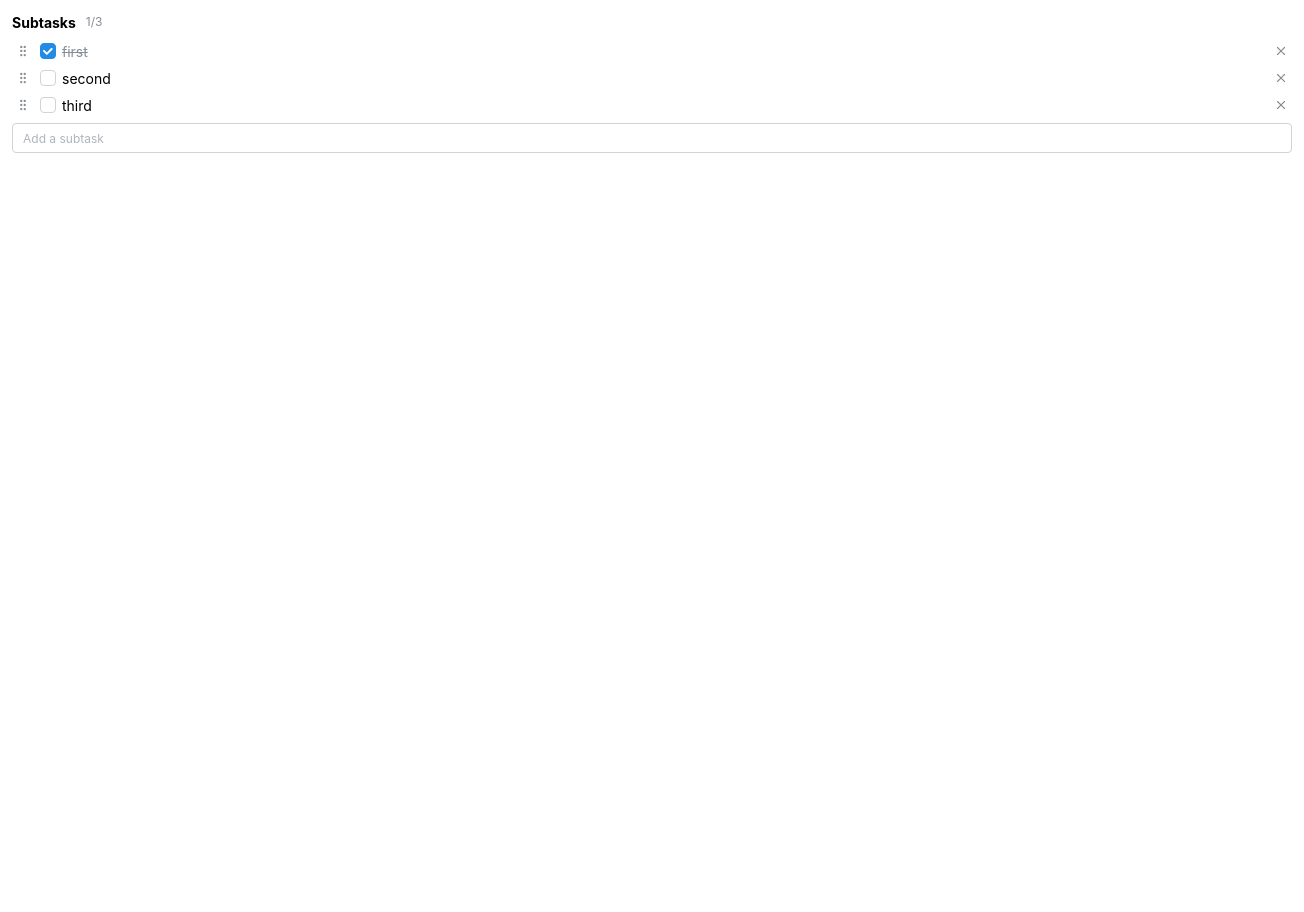
it: SubtasksSection undo › unchecking says so
Step 1. Click the checkbox named "Subtask done: first" → (48, 51), box [40,43,56,59]
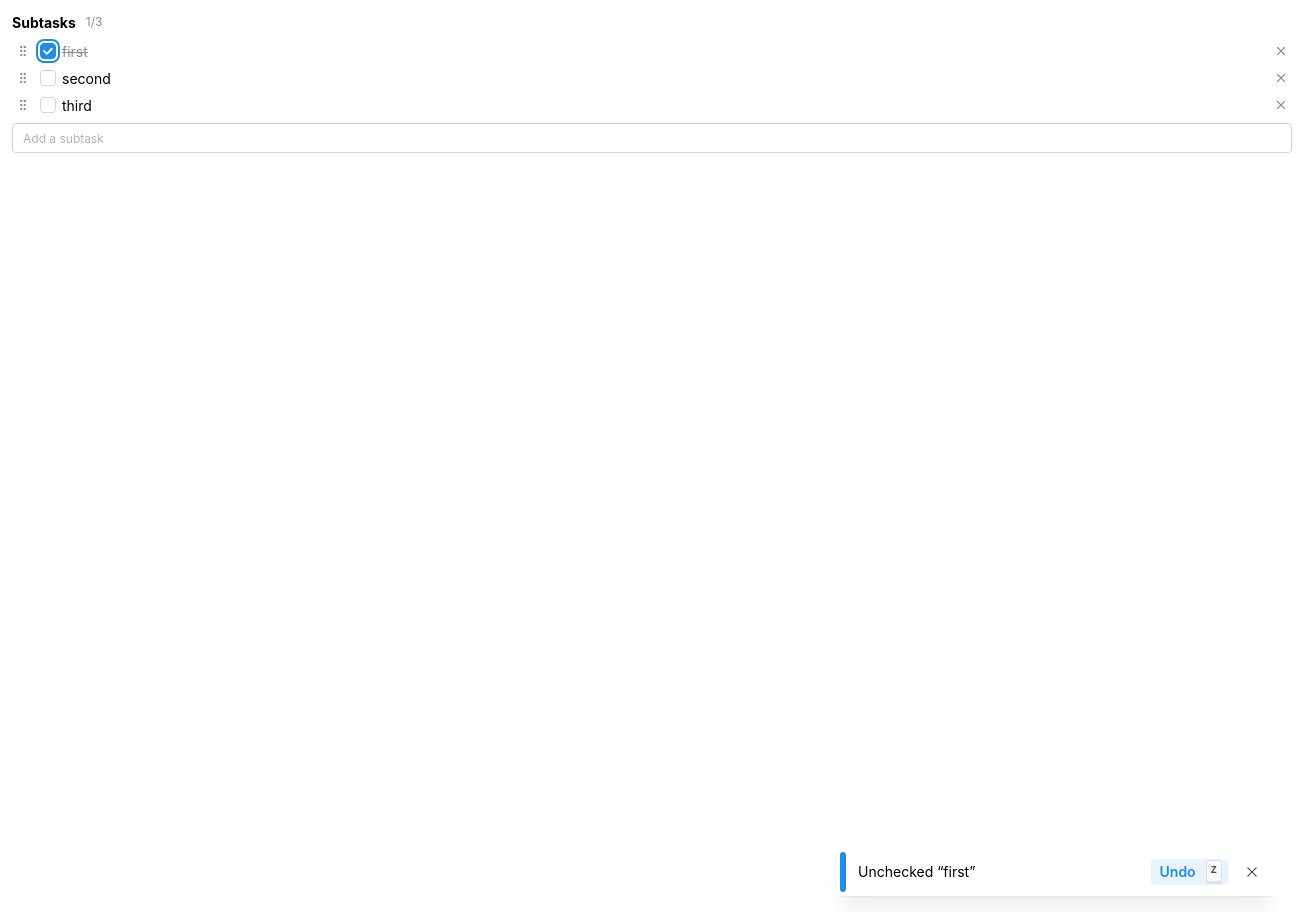
Expected: the text "Unchecked “first”" is shown, [858,863,975,880]
